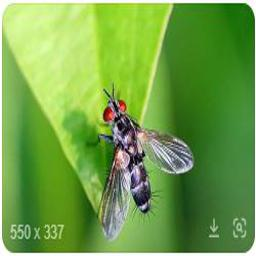liriomyza: (85, 94, 196, 241)
